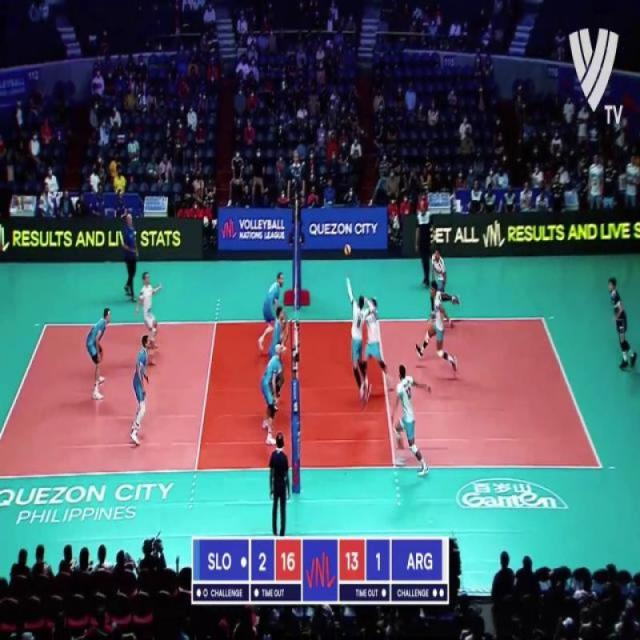volleyball: (344, 244, 352, 257)
